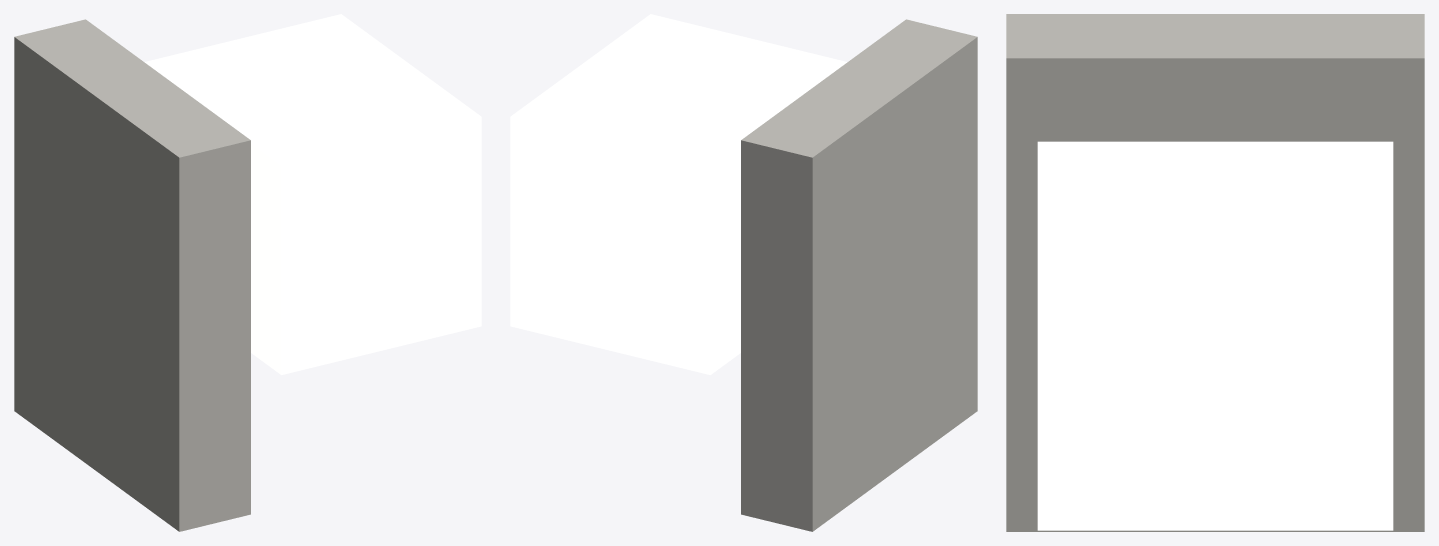
File: WallLight.glb
3 renders of one model, left to right at view 1: azimuth 30°, elevation 25°; view 2: azimuth 150°, elevation 25°; view 3: azimuth 270°, elevation 25°, orthographic. The views are drawn at different scales.
Parts seen in each view (by area): view 1: model; view 2: model; view 3: model.
Part boxes in pixels (bbox=[...]): model: bbox=[14, 14, 481, 531]; model: bbox=[510, 14, 977, 531]; model: bbox=[1006, 14, 1424, 531].
Size of the model in its own units: 0.44 by 0.5 by 0.4.
